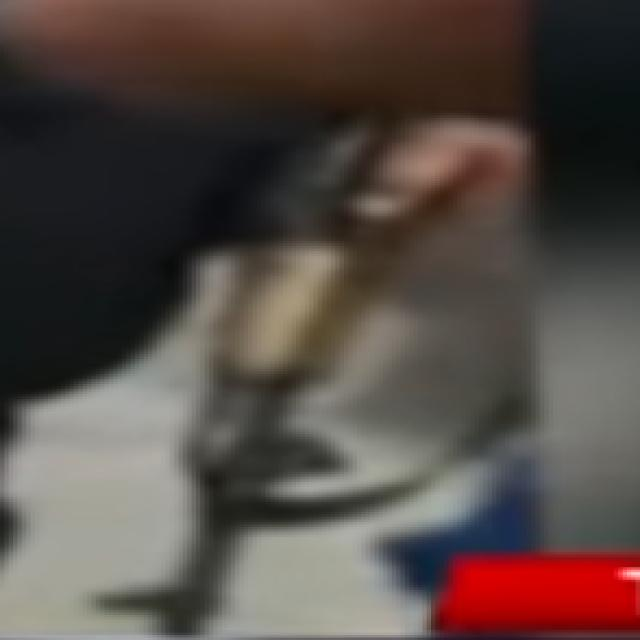FRifle: (106, 86, 457, 640)
